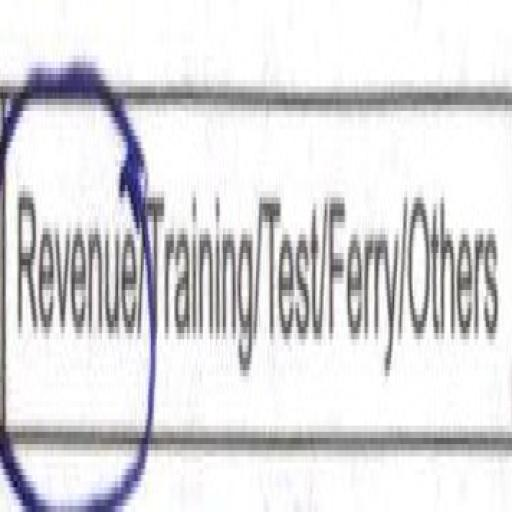check: (0, 12, 144, 512)
